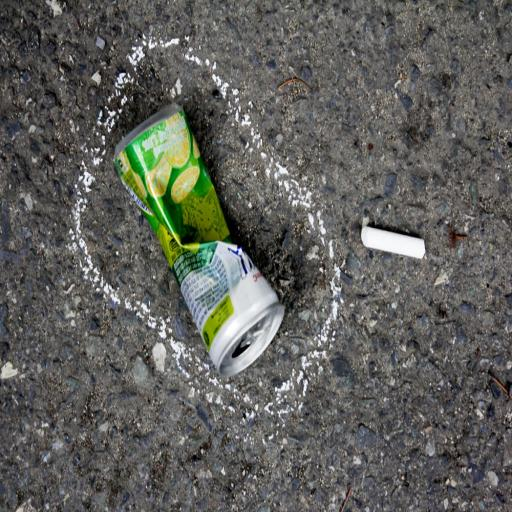can: (115, 104, 283, 375)
